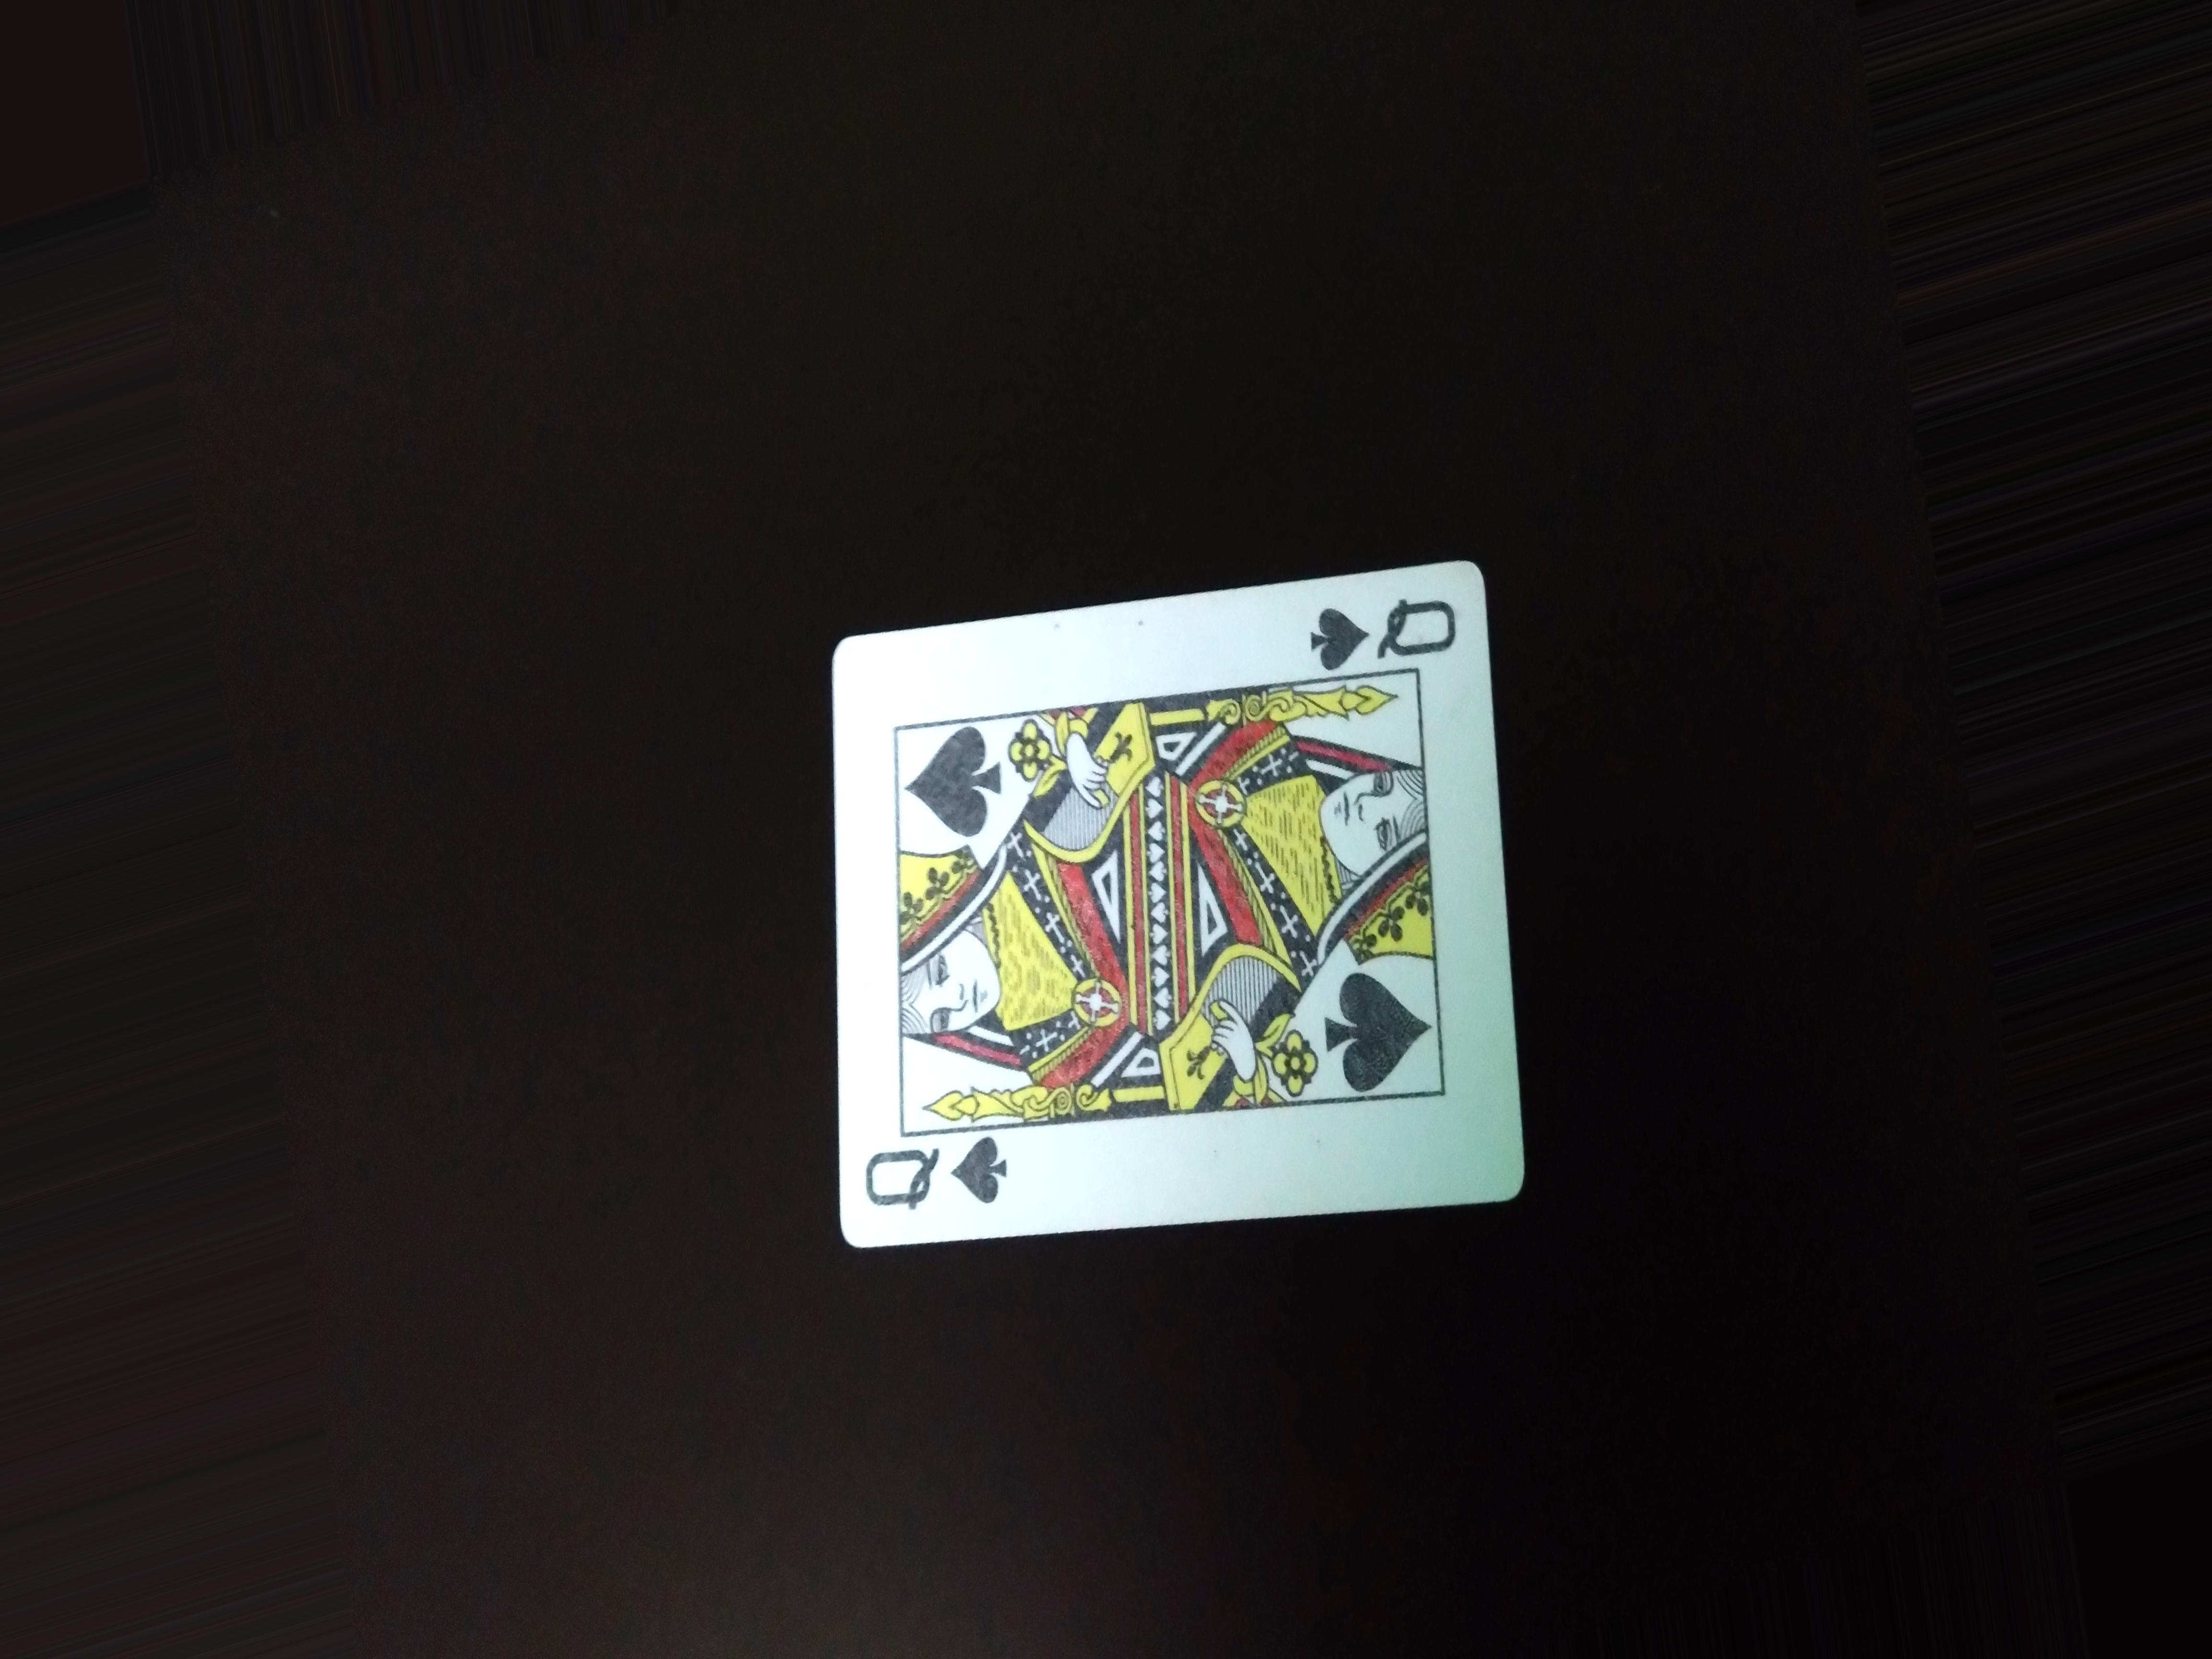QS: (827, 1131, 1066, 1232)
